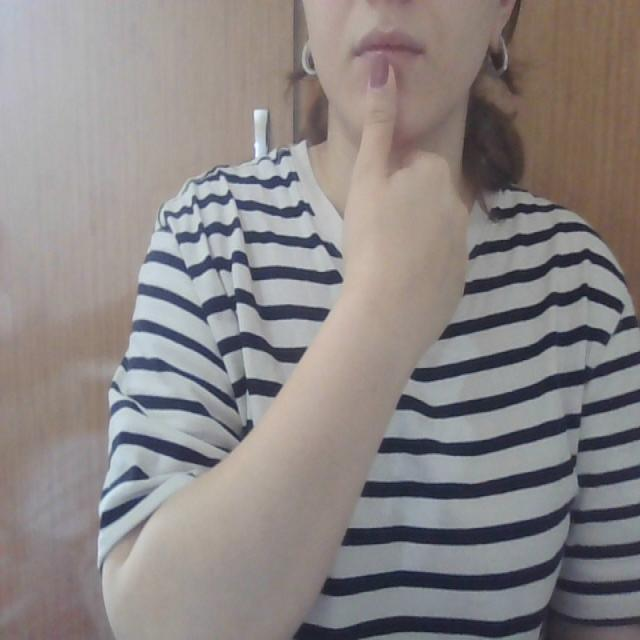Baba: (341, 8, 428, 152)
